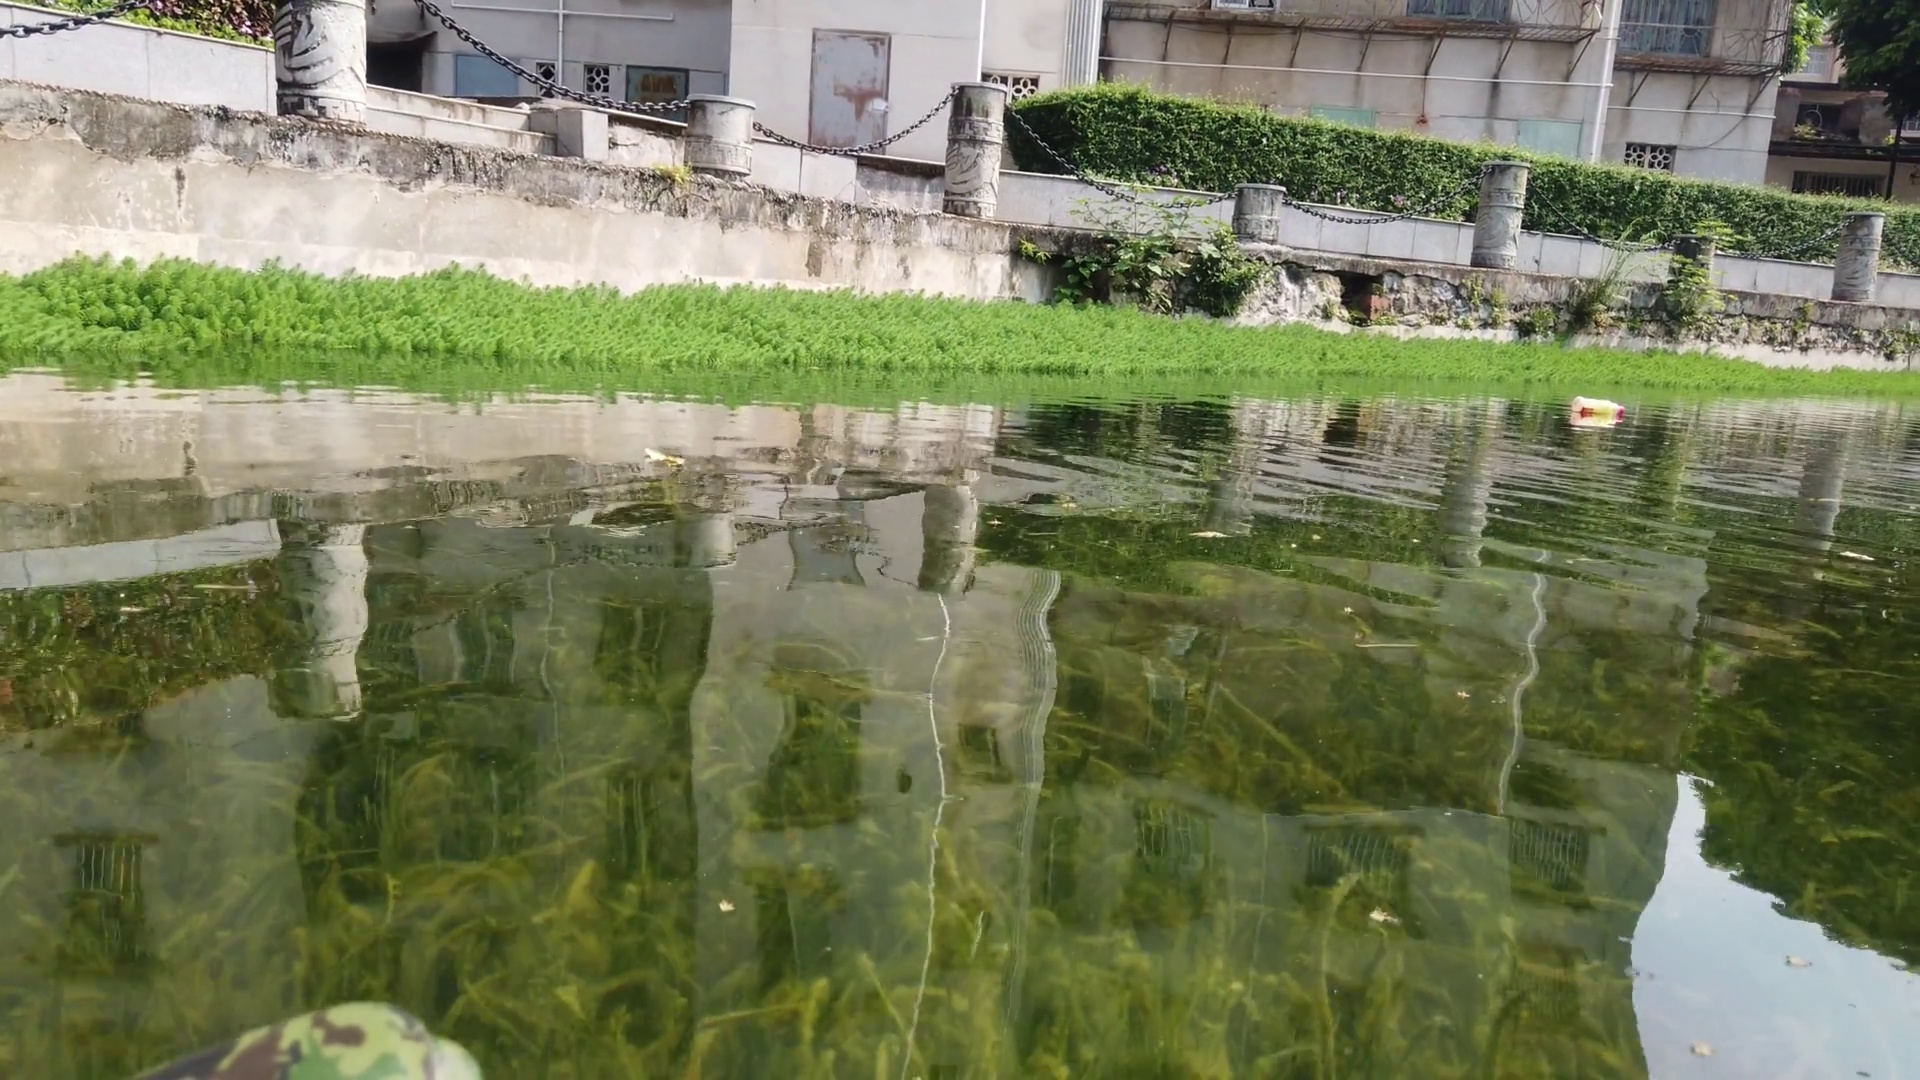bottle: (1571, 394, 1627, 417)
